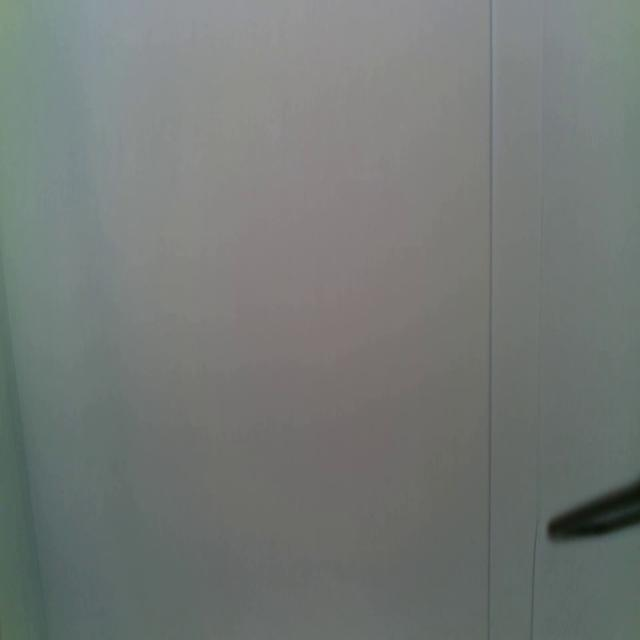crease: (0, 253, 50, 640), (528, 2, 545, 640), (484, 0, 496, 640)
